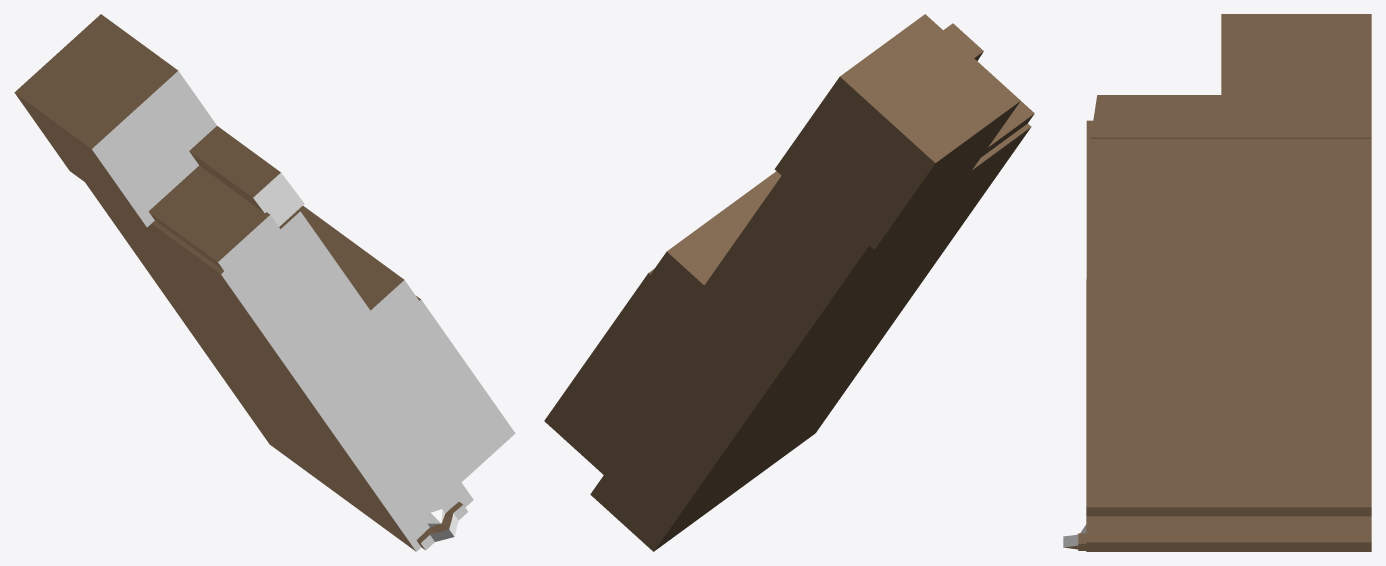
3 renders of one model, left to right at view 1: azimuth 30°, elevation 25°; view 2: azimuth 150°, elevation 25°; view 3: azimuth 270°, elevation 25°, orthographic. The views are drawn at different scales.
Visible parts, largest first — view 1: City_PC-08660; view 2: City_PC-08660; view 3: City_PC-08660.
Boxes of the visible parts, x1,y1,x2,y2 form: City_PC-08660: [14, 14, 515, 551]; City_PC-08660: [544, 14, 1034, 551]; City_PC-08660: [1063, 14, 1371, 551].
Bounding box in the file's own units: 1977 × 2514 × 1533.
